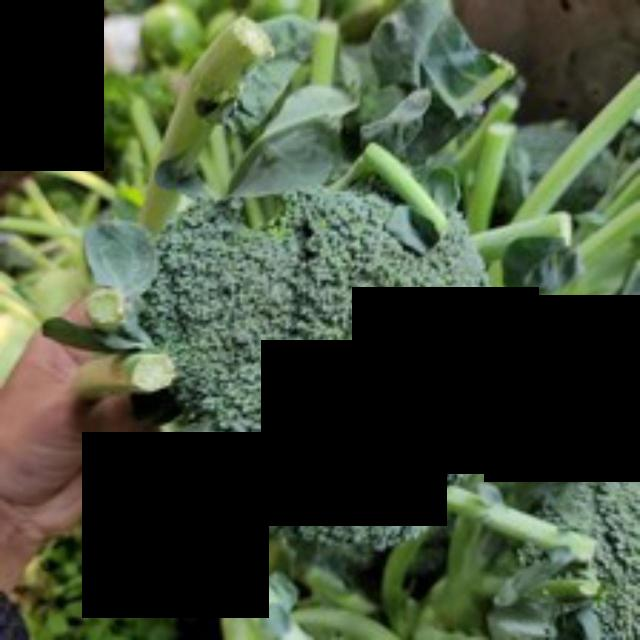broccoli: (148, 162, 506, 570)
